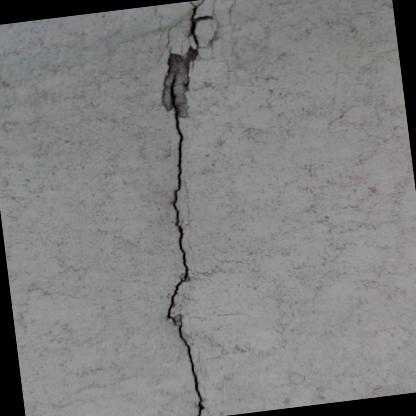crack: (160, 0, 212, 416)
